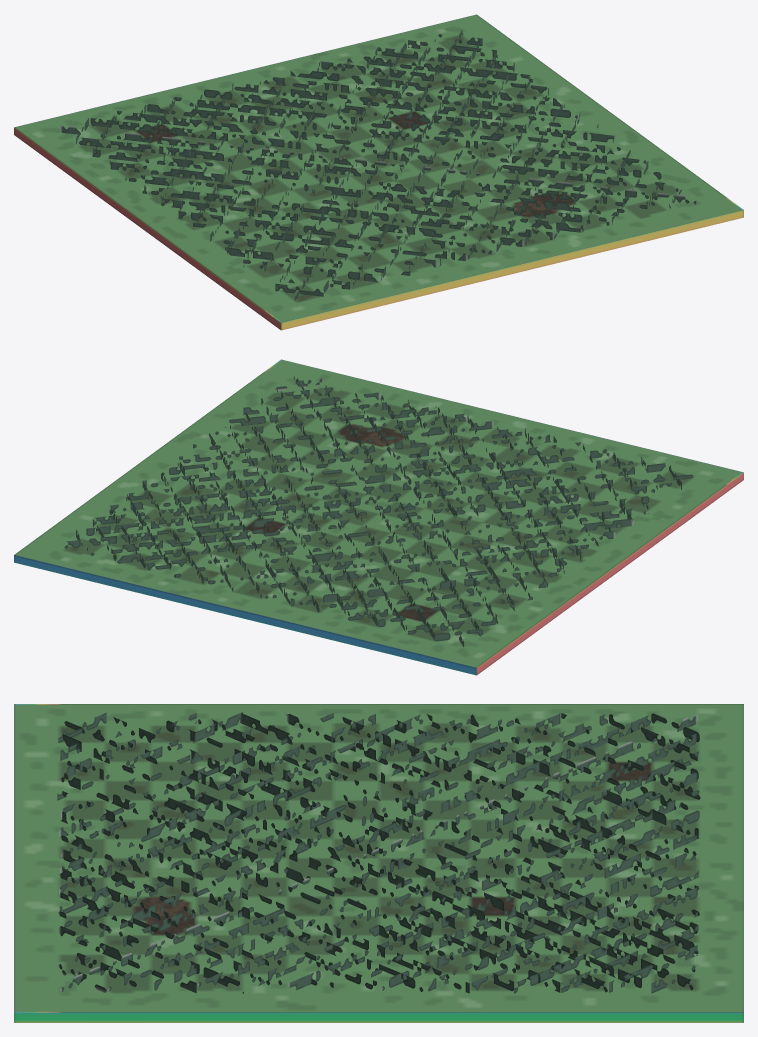
File: mediumfieldboard.obj
3 renders of one model, top to bottom at view 1: azimuth 30°, elevation 25°; view 2: azimuth 150°, elevation 25°; view 3: azimuth 270°, elevation 25°, orthographic. The views are drawn at different scales.
Parts seen in each view (by area): view 1: cube; view 2: cube; view 3: cube.
Boxes of the visible parts, box(x1,y1,x2,y2) form: cube: box(14, 14, 743, 330); cube: box(14, 359, 743, 675); cube: box(14, 704, 743, 1022).
Bounding box in the file's own units: 8 × 0.25 × 8.
